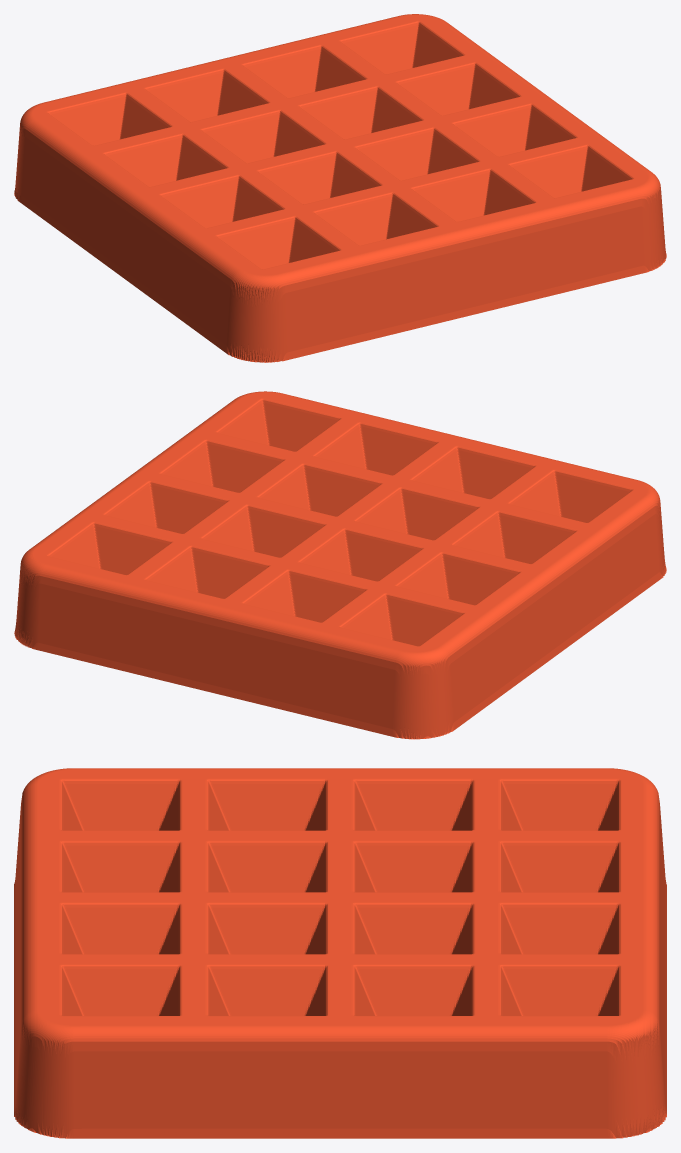
File: mold.glb
The picture shows the model from 3 angles, top to bottom: view 1: azimuth 30°, elevation 25°; view 2: azimuth 150°, elevation 25°; view 3: azimuth 270°, elevation 25°; orthographic projection. The views are drawn at different scales.
Visible parts, largest first — view 1: geometry_0; view 2: geometry_0; view 3: geometry_0.
Part boxes in pixels (bbox=[...]): geometry_0: bbox=[14, 14, 666, 362]; geometry_0: bbox=[14, 391, 666, 739]; geometry_0: bbox=[14, 768, 666, 1138].
Bounding box in the file's own units: 0.0987 × 0.0172 × 0.0987.
